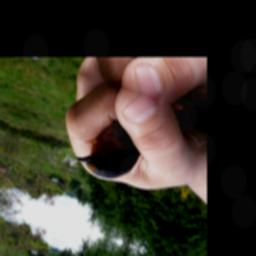Swallow: (71, 110, 149, 190)
